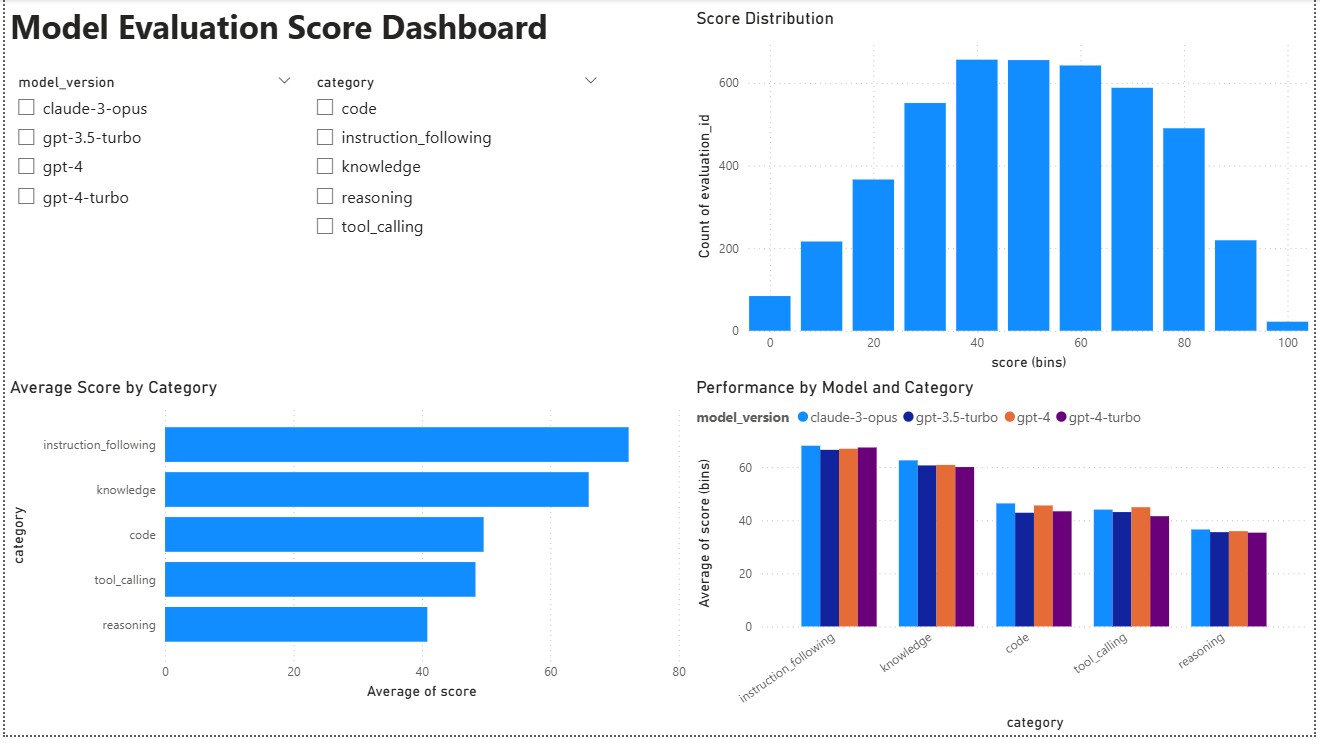

What the dashboard file says about the page in this screenshot:
{"tool":"powerbi","page":{"name":"Page 1","canvas":[1280,720],"ordinal":0},"visuals":[{"type":"clusteredColumnChart","title":"Score Distribution","fields":{"Category":["evaluation_data.score (bins)"],"Y":["CountNonNull(evaluation_data.evaluation_id)"]},"box":[671.2,8.8,608.8,360],"z":0},{"type":"clusteredBarChart","title":"Average Score by Category","fields":{"Category":["evaluation_data.category"],"Y":["Avg(evaluation_data.score)"]},"box":[0,368.8,671.2,321.2],"z":1000},{"type":"clusteredColumnChart","title":"Performance by Model and Category","fields":{"Category":["evaluation_data.category"],"Y":["Avg(evaluation_data.score (bins))"],"Series":["evaluation_data.model_version"]},"box":[671.2,368.8,608.8,351.2],"z":2000},{"type":"slicer","fields":{"Values":["evaluation_data.model_version"]},"box":[0,67.5,292.5,187.5],"z":2001},{"type":"slicer","fields":{"Values":["evaluation_data.category"]},"box":[292.5,67.5,300,187.5],"z":2002},{"type":"textbox","box":[0,0,577.5,67.5],"z":2003}]}

Visuals, with their boxes in screenshot pixels (x1, y1, x2, y2), scaled from the page's 1280x720 canvas onto the 1320x744 screenshot:
"Score Distribution" clusteredColumnChart: x1=692 y1=9 x2=1319 y2=381
"Average Score by Category" clusteredBarChart: x1=0 y1=381 x2=692 y2=713
"Performance by Model and Category" clusteredColumnChart: x1=692 y1=381 x2=1319 y2=743
slicer - evaluation_data.model_version: x1=0 y1=70 x2=302 y2=264
slicer - evaluation_data.category: x1=302 y1=70 x2=611 y2=264
textbox: x1=0 y1=0 x2=596 y2=70
